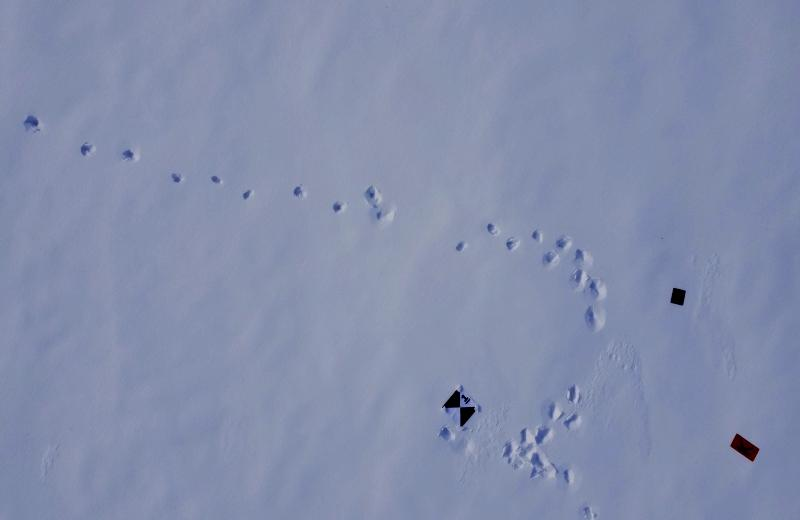Rectangle: (726, 430, 762, 468)
Square: (666, 285, 689, 309)
